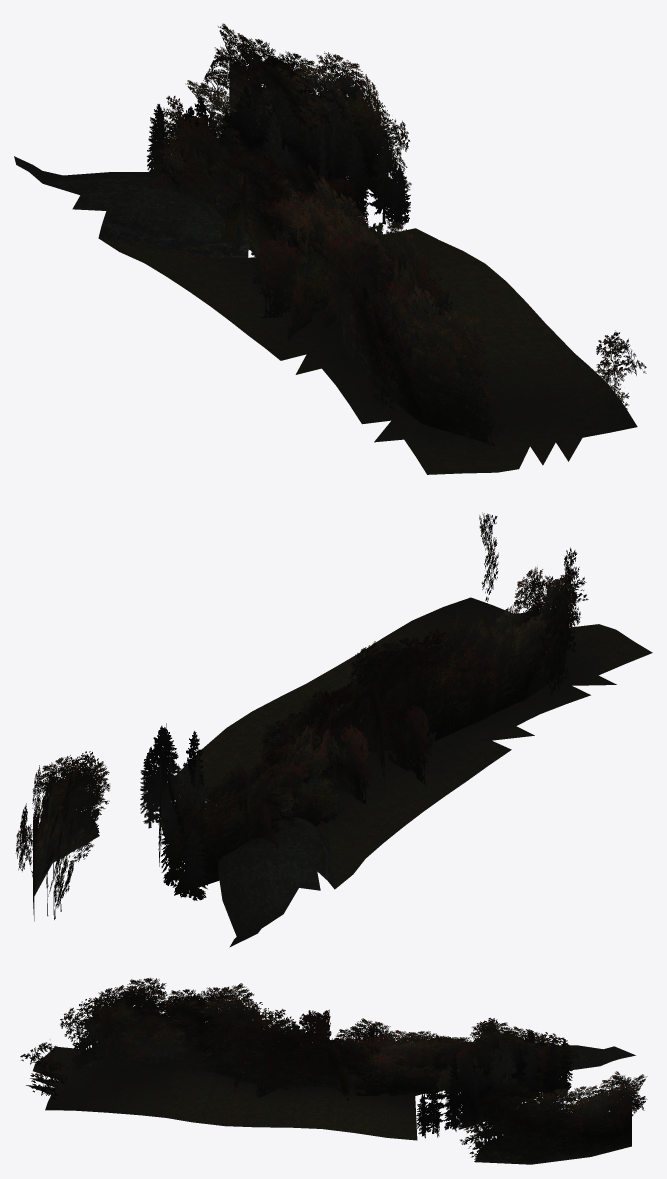
File: cell_5_-14.gltf
The picture shows the model from 3 angles, top to bottom: view 1: azimuth 30°, elevation 25°; view 2: azimuth 150°, elevation 25°; view 3: azimuth 270°, elevation 25°; orthographic projection. The views are drawn at different scales.
Visible parts, largest first — view 1: cell_5_-14; view 2: cell_5_-14; view 3: cell_5_-14.
Part boxes in pixels (x1,y1,x2,y2): cell_5_-14: [14, 23, 646, 474]; cell_5_-14: [15, 512, 652, 947]; cell_5_-14: [20, 977, 647, 1164].
Bounding box in the file's own units: 105 × 50.92 × 276.
11 materials, 11 textured.
